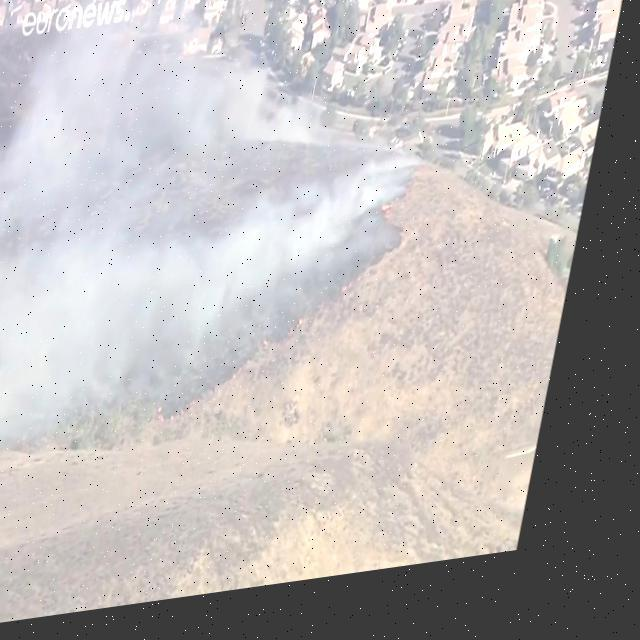Fire: (389, 213, 404, 232)
